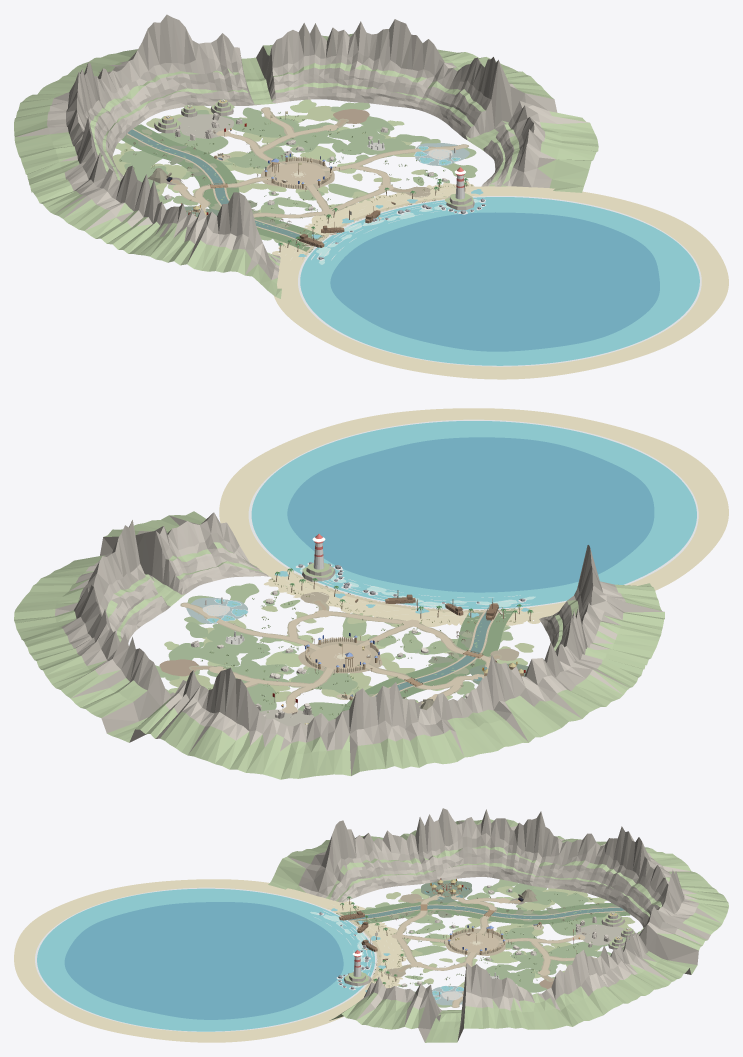
File: map_field_coast.glb
The picture shows the model from 3 angles, top to bottom: view 1: azimuth 30°, elevation 25°; view 2: azimuth 150°, elevation 25°; view 3: azimuth 270°, elevation 25°; orthographic projection. The views are drawn at different scales.
Visible parts, largest first — view 1: Z_field_coast_penhascos, Z_field_coast_agua_funda_mar, Z_field_coast_agua_mar, Z_field_coast_areia_mar, Z_field_coast_chao_mangue_faixa, Z_field_coast_det_chao_1_-1, Z_field_coast_espuma_mar, Z_field_coast_det_chao_0_-2, Z_field_coast_agua_rio_1, Z_field_coast_praca_encruzilhada, Z_field_coast_chao_falesias, Z_field_coast_det_chao_-2_-2 (+9 smaller); view 2: Z_field_coast_penhascos, Z_field_coast_agua_funda_mar, Z_field_coast_agua_mar, Z_field_coast_areia_mar, Z_field_coast_chao_mangue_faixa, Z_field_coast_det_chao_1_-1, Z_field_coast_espuma_mar, Z_field_coast_det_chao_0_-2, Z_field_coast_praca_encruzilhada, Z_field_coast_det_chao_-1_-1, Z_field_coast_det_chao_-1_0, Z_field_coast_agua_rio_1 (+10 smaller); view 3: Z_field_coast_penhascos, Z_field_coast_agua_funda_mar, Z_field_coast_agua_mar, Z_field_coast_areia_mar, Z_field_coast_chao_mangue_faixa, Z_field_coast_espuma_mar, Z_field_coast_det_chao_0_-2, Z_field_coast_agua_rio_1, Z_field_coast_det_chao_1_-1, Z_field_coast_det_chao_-3_-1, Z_field_coast_praca_encruzilhada, Z_field_coast_margem_rio_1 (+14 smaller).
Boxes of the visible parts, x1,y1,x2,y2 form: Z_field_coast_penhascos: (14,14,598,298); Z_field_coast_agua_funda_mar: (330,212,659,351); Z_field_coast_agua_mar: (300,197,699,365); Z_field_coast_areia_mar: (274,186,728,379); Z_field_coast_chao_mangue_faixa: (121,124,322,252); Z_field_coast_det_chao_1_-1: (314,125,415,162); Z_field_coast_espuma_mar: (298,196,701,366); Z_field_coast_det_chao_0_-2: (231,118,326,152); Z_field_coast_agua_rio_1: (128,129,314,246); Z_field_coast_praca_encruzilhada: (271,163,325,186); Z_field_coast_chao_falesias: (176,114,234,138); Z_field_coast_det_chao_-2_-2: (130,145,228,179); Z_field_coast_penhascos: (14,511,664,779); Z_field_coast_agua_funda_mar: (287,437,654,592); Z_field_coast_agua_mar: (251,421,696,608); Z_field_coast_areia_mar: (219,408,728,623); Z_field_coast_chao_mangue_faixa: (341,608,515,711); Z_field_coast_det_chao_1_-1: (194,623,282,669); Z_field_coast_espuma_mar: (248,419,698,609); Z_field_coast_det_chao_0_-2: (233,664,309,711); Z_field_coast_praca_encruzilhada: (311,644,371,669); Z_field_coast_det_chao_-1_-1: (297,659,372,694); Z_field_coast_det_chao_-1_0: (356,624,422,670); Z_field_coast_agua_rio_1: (375,609,498,696); Z_field_coast_penhascos: (268,808,728,1042); Z_field_coast_agua_funda_mar: (64,902,343,1019); Z_field_coast_agua_mar: (37,888,374,1031); Z_field_coast_areia_mar: (14,879,400,1042); Z_field_coast_chao_mangue_faixa: (336,900,630,924); Z_field_coast_espuma_mar: (35,887,376,1031); Z_field_coast_det_chao_0_-2: (511,941,602,970); Z_field_coast_agua_rio_1: (348,905,624,920); Z_field_coast_det_chao_1_-1: (473,961,534,985); Z_field_coast_det_chao_-3_-1: (466,879,534,902); Z_field_coast_praca_encruzilhada: (453,933,499,952); Z_field_coast_margem_rio_1: (349,904,625,920).
Size of the model in its own units: 361 by 55.32 by 529.
